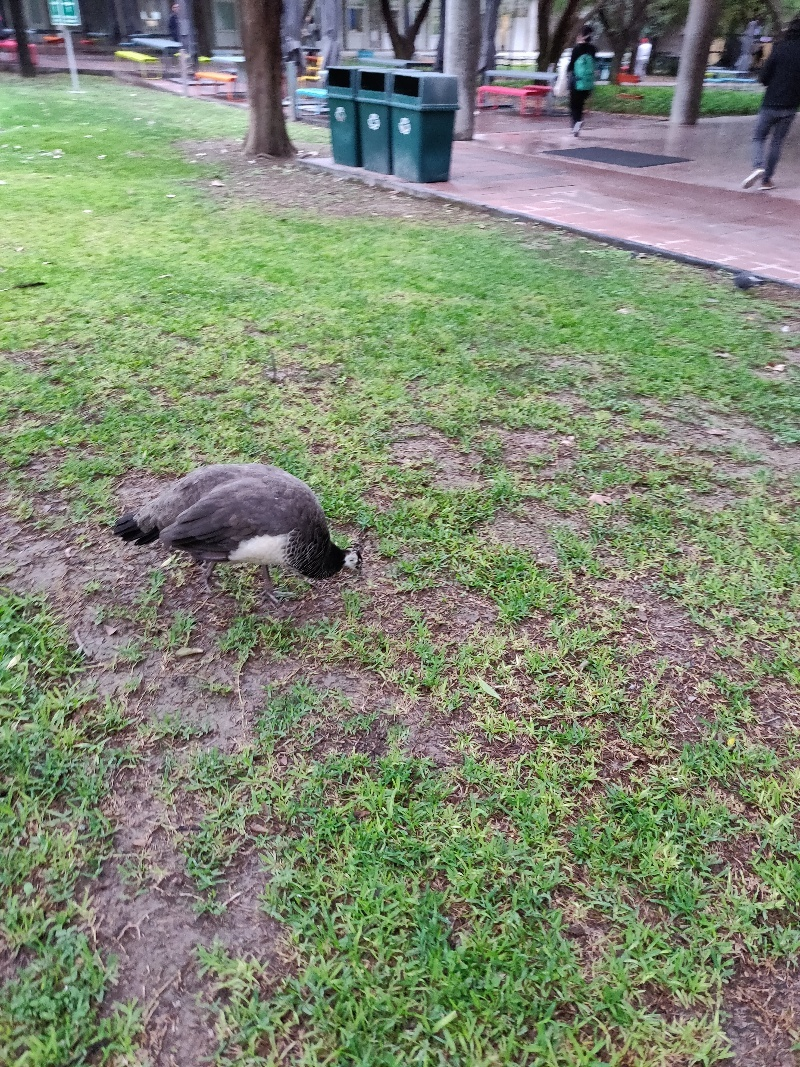pavoreal: (105, 462, 365, 607)
